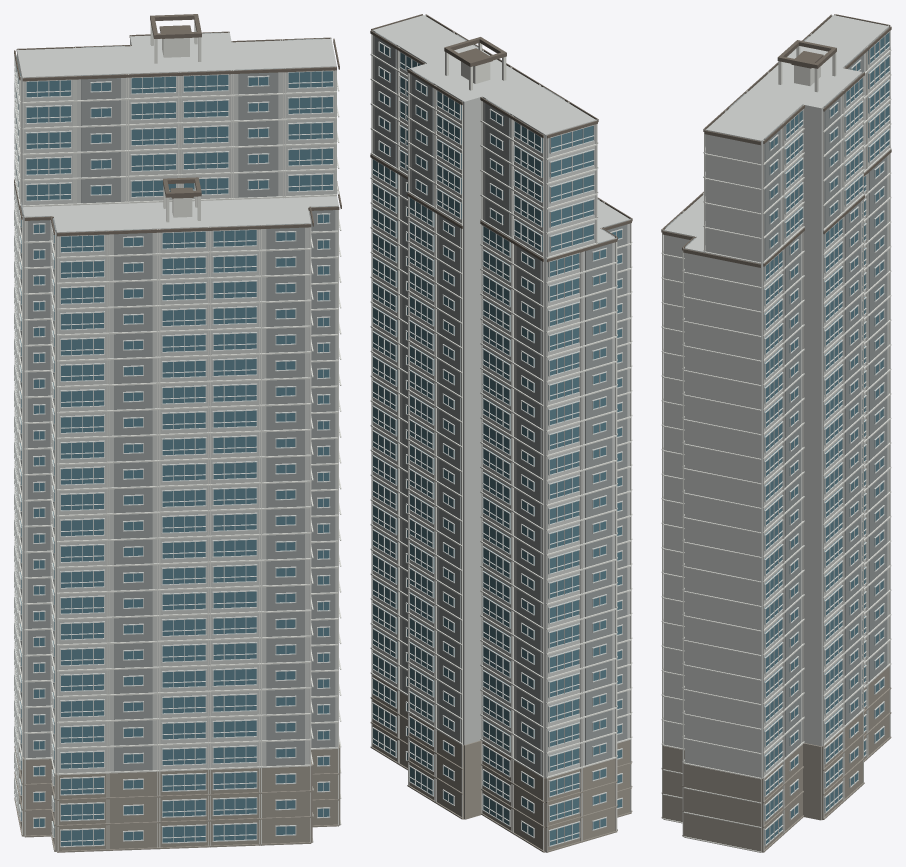
Rendered from bespoke-banpo-xi-108.glb.
The picture shows the model from 3 angles, left to right: view 1: azimuth 30°, elevation 25°; view 2: azimuth 150°, elevation 25°; view 3: azimuth 270°, elevation 25°; orthographic projection. The views are drawn at different scales.
Parts seen in each view (by area): view 1: BX108_editable_BX108_blue_grey_broad_glazing, BX108_editable_BX108_pale_silver_limestone, BX108_editable_BX108_grey_service_core, BX108_editable_BX108_white_window_frames, BX108_editable_BX108_ivory_course_bands, BX108_editable_BX108_warm_ground_stone, BX108_editable_BX108_dark_coping; view 2: BX108_editable_BX108_pale_silver_limestone, BX108_editable_BX108_blue_grey_broad_glazing, BX108_editable_BX108_grey_service_core, BX108_editable_BX108_white_window_frames, BX108_editable_BX108_ivory_course_bands, BX108_editable_BX108_warm_ground_stone, BX108_editable_BX108_dark_coping; view 3: BX108_editable_BX108_pale_silver_limestone, BX108_editable_BX108_ivory_course_bands, BX108_editable_BX108_grey_service_core, BX108_editable_BX108_white_window_frames, BX108_editable_BX108_blue_grey_broad_glazing, BX108_editable_BX108_warm_ground_stone, BX108_editable_BX108_dark_coping.
Part boxes in pixels (left/top/right/bottom): BX108_editable_BX108_blue_grey_broad_glazing: left=16, top=55, right=332, bottom=846; BX108_editable_BX108_pale_silver_limestone: left=17, top=33, right=338, bottom=851; BX108_editable_BX108_grey_service_core: left=20, top=32, right=335, bottom=772; BX108_editable_BX108_white_window_frames: left=14, top=56, right=333, bottom=847; BX108_editable_BX108_ivory_course_bands: left=14, top=21, right=341, bottom=852; BX108_editable_BX108_warm_ground_stone: left=14, top=743, right=340, bottom=852; BX108_editable_BX108_dark_coping: left=14, top=14, right=341, bottom=236; BX108_editable_BX108_pale_silver_limestone: left=372, top=15, right=629, bottom=851; BX108_editable_BX108_blue_grey_broad_glazing: left=373, top=43, right=621, bottom=845; BX108_editable_BX108_grey_service_core: left=375, top=32, right=627, bottom=774; BX108_editable_BX108_white_window_frames: left=372, top=41, right=622, bottom=846; BX108_editable_BX108_ivory_course_bands: left=370, top=15, right=632, bottom=852; BX108_editable_BX108_warm_ground_stone: left=370, top=675, right=632, bottom=852; BX108_editable_BX108_dark_coping: left=370, top=14, right=632, bottom=262; BX108_editable_BX108_pale_silver_limestone: left=664, top=15, right=888, bottom=851; BX108_editable_BX108_ivory_course_bands: left=661, top=14, right=891, bottom=852; BX108_editable_BX108_grey_service_core: left=665, top=36, right=887, bottom=757; BX108_editable_BX108_white_window_frames: left=705, top=31, right=890, bottom=846; BX108_editable_BX108_blue_grey_broad_glazing: left=764, top=32, right=889, bottom=845; BX108_editable_BX108_warm_ground_stone: left=661, top=666, right=891, bottom=852; BX108_editable_BX108_dark_coping: left=661, top=14, right=891, bottom=267.
Size of the model in its own units: 31.19 by 81.3 by 22.99.
